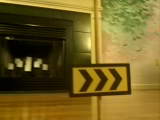right: (69, 64, 129, 94)
